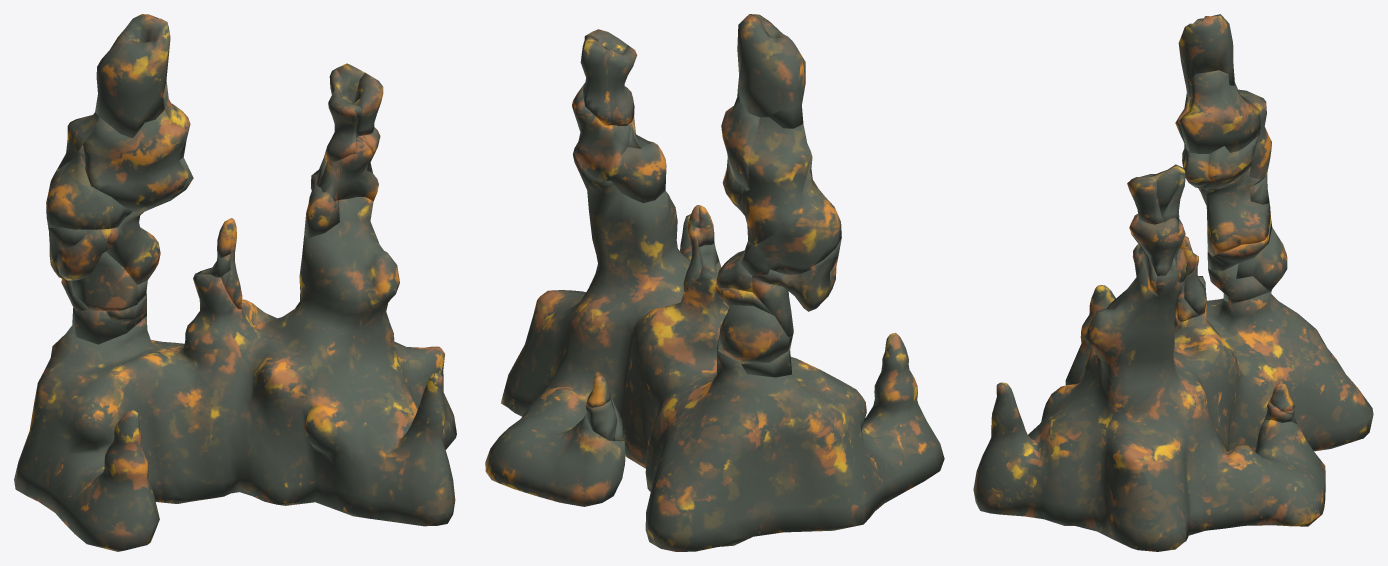
File: thermalVent_dream.fbx
3 renders of one model, left to right at view 1: azimuth 30°, elevation 25°; view 2: azimuth 150°, elevation 25°; view 3: azimuth 270°, elevation 25°, orthographic. The views are drawn at different scales.
Visible parts, largest first — view 1: thermalVent_temp.001, thermalVent_temp.004, thermalVent_temp.003, thermalVent_temp.007, thermalVent_temp.019, thermalVent_temp.017, thermalVent_temp.022, thermalVent_temp.008, thermalVent_temp.024, thermalVent_temp.025, thermalVent_temp.023, thermalVent_temp.009 (+6 smaller); view 2: thermalVent_temp.001, thermalVent_temp.003, thermalVent_temp.006, thermalVent_temp.007, thermalVent_temp.008, thermalVent_temp.026, thermalVent_temp.021, thermalVent_temp.023, thermalVent_temp.005, thermalVent_temp.018, thermalVent_temp.019, thermalVent_temp.017 (+6 smaller); view 3: thermalVent_temp.001, thermalVent_temp.005, thermalVent_temp.017, thermalVent_temp.003, thermalVent_temp.010, thermalVent_temp.026, thermalVent_temp.015, thermalVent_temp.027, thermalVent_temp.009, thermalVent_temp.006, thermalVent_temp.020, thermalVent_temp.016 (+3 smaller).
Part boxes in pixels (x1,y1,x2,y2): thermalVent_temp.001: [14, 197, 456, 551]; thermalVent_temp.004: [83, 110, 187, 212]; thermalVent_temp.003: [95, 14, 170, 138]; thermalVent_temp.007: [46, 145, 132, 229]; thermalVent_temp.019: [70, 251, 137, 310]; thermalVent_temp.017: [106, 211, 160, 284]; thermalVent_temp.022: [316, 136, 378, 201]; thermalVent_temp.008: [323, 64, 362, 161]; thermalVent_temp.024: [57, 229, 110, 280]; thermalVent_temp.025: [72, 308, 129, 344]; thermalVent_temp.023: [304, 174, 339, 237]; thermalVent_temp.009: [353, 72, 383, 136]; thermalVent_temp.001: [485, 135, 944, 551]; thermalVent_temp.003: [737, 14, 805, 128]; thermalVent_temp.006: [739, 117, 812, 244]; thermalVent_temp.007: [740, 159, 841, 276]; thermalVent_temp.008: [580, 40, 637, 125]; thermalVent_temp.026: [718, 305, 792, 363]; thermalVent_temp.021: [573, 98, 631, 181]; thermalVent_temp.023: [610, 141, 666, 203]; thermalVent_temp.005: [721, 88, 759, 189]; thermalVent_temp.018: [752, 238, 841, 311]; thermalVent_temp.019: [752, 278, 793, 337]; thermalVent_temp.017: [715, 238, 753, 292]; thermalVent_temp.001: [973, 258, 1373, 551]; thermalVent_temp.005: [1178, 70, 1260, 153]; thermalVent_temp.017: [1199, 166, 1270, 256]; thermalVent_temp.003: [1178, 14, 1234, 97]; thermalVent_temp.010: [1129, 214, 1181, 275]; thermalVent_temp.026: [1236, 227, 1287, 291]; thermalVent_temp.015: [1195, 135, 1259, 189]; thermalVent_temp.027: [1208, 263, 1269, 303]; thermalVent_temp.009: [1127, 174, 1165, 224]; thermalVent_temp.006: [1238, 89, 1271, 179]; thermalVent_temp.020: [1207, 217, 1272, 270]; thermalVent_temp.016: [1183, 150, 1210, 187].
Bounding box in the file's own units: 7.04 × 7.97 × 6.8.
